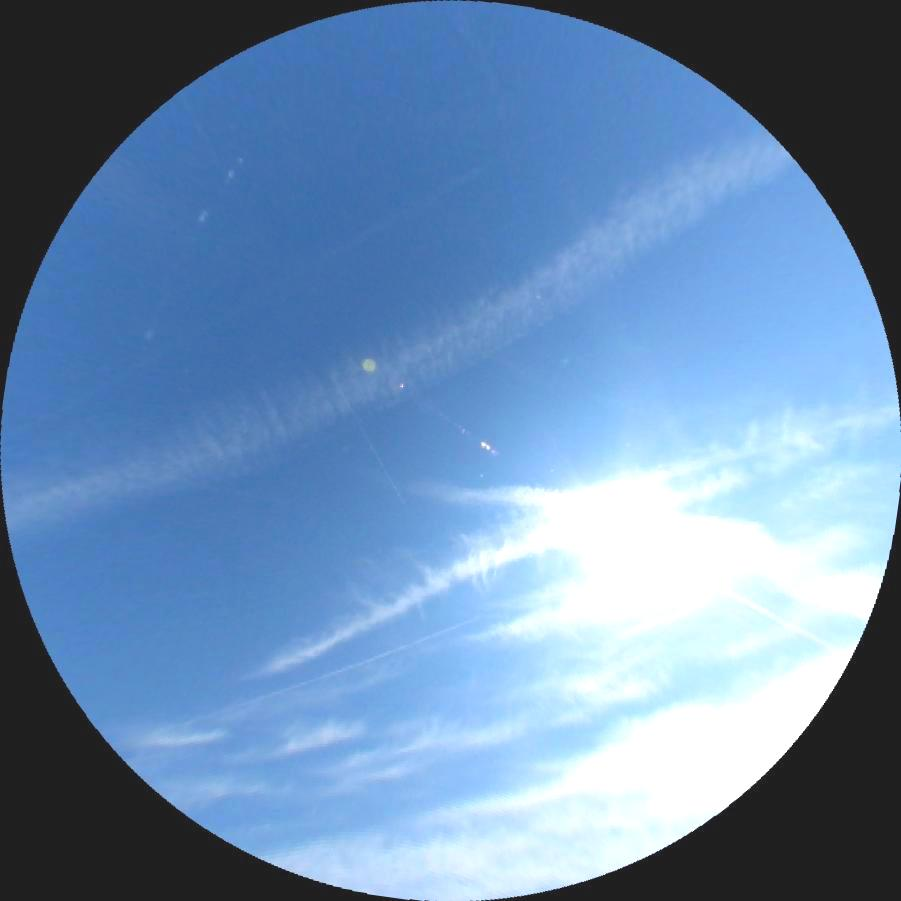contrail old: (0, 115, 569, 448), (322, 363, 408, 508)
contrail veryold: (0, 107, 811, 591), (222, 389, 830, 690), (387, 427, 884, 620)
contrail young: (137, 613, 484, 743)
parasite: (136, 164, 235, 339), (686, 567, 854, 657)
sun: (571, 495, 695, 585)
